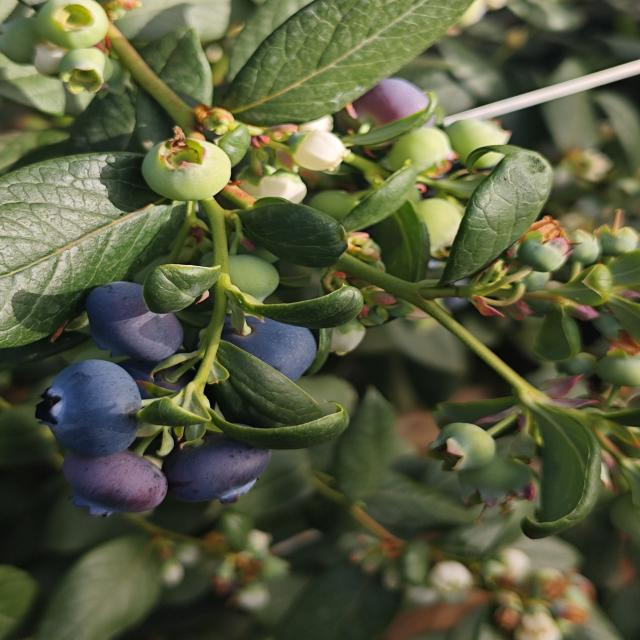ripe: (32, 358, 146, 459), (83, 280, 186, 364), (160, 437, 274, 508), (59, 448, 170, 520), (216, 312, 320, 384), (367, 75, 427, 121)
